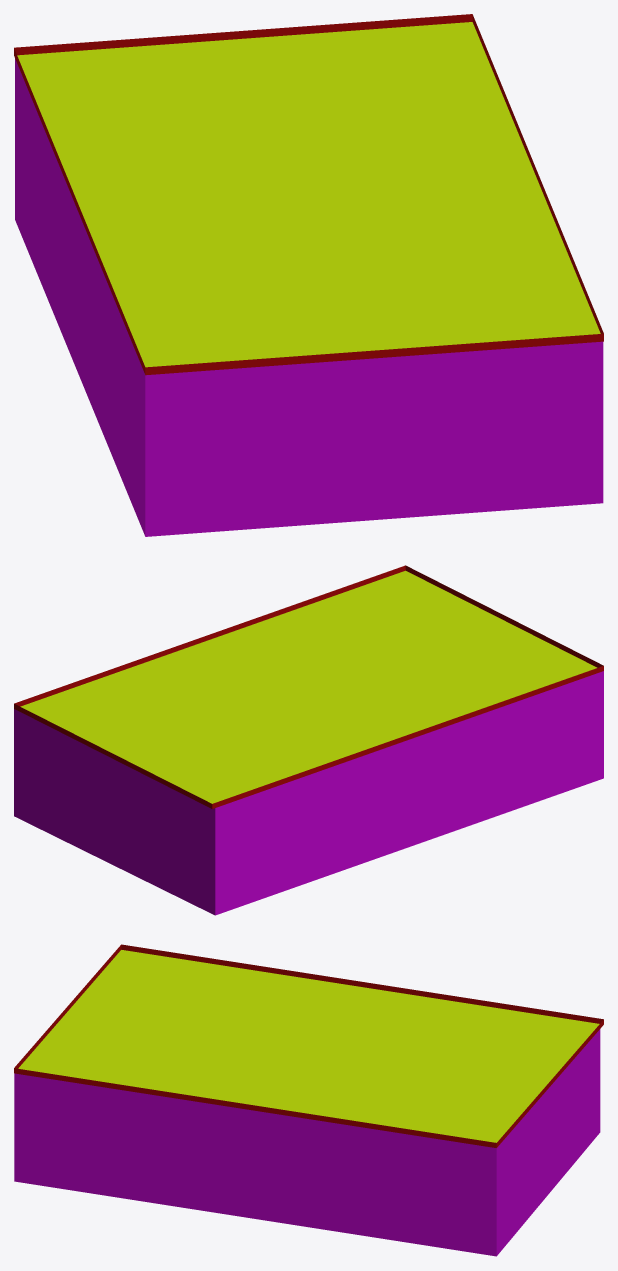
File: ssv_17.glb
3 renders of one model, top to bottom at view 1: azimuth 30°, elevation 25°; view 2: azimuth 150°, elevation 25°; view 3: azimuth 270°, elevation 25°, orthographic. The views are drawn at different scales.
Parts seen in each view (by area): view 1: ssv_17; view 2: ssv_17; view 3: ssv_17.
Part boxes in pixels (bbox=[...]): ssv_17: bbox=[14, 14, 603, 536]; ssv_17: bbox=[14, 565, 603, 915]; ssv_17: bbox=[14, 944, 603, 1256].
Size of the model in its own units: 28.17 by 7.52 by 35.38.
